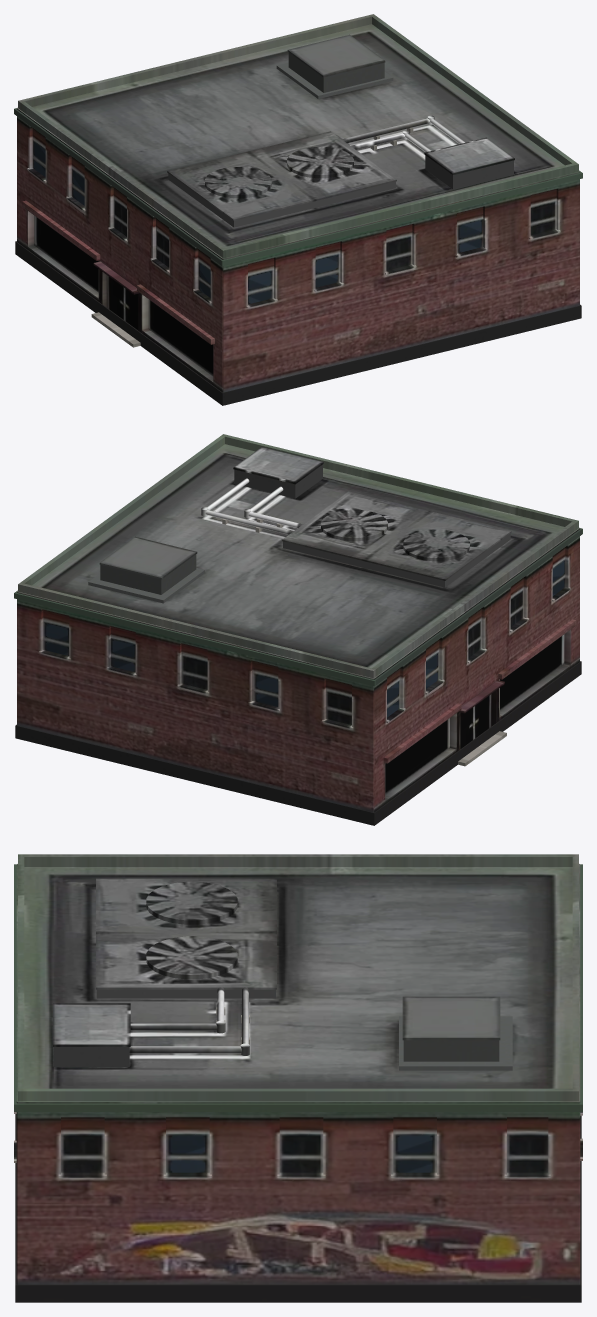
The model's file is city2storyc_cad.glb.
3 renders of one model, top to bottom at view 1: azimuth 30°, elevation 25°; view 2: azimuth 150°, elevation 25°; view 3: azimuth 270°, elevation 25°, orthographic. The views are drawn at different scales.
Parts seen in each view (by area): view 1: City2StoryA; view 2: City2StoryA; view 3: City2StoryA.
Boxes of the visible parts, x1,y1,x2,y2 form: City2StoryA: [14, 14, 582, 405]; City2StoryA: [14, 434, 582, 825]; City2StoryA: [14, 854, 582, 1302].
Size of the model in its own units: 18.24 by 7.93 by 17.92.
1 material, 1 textured.
